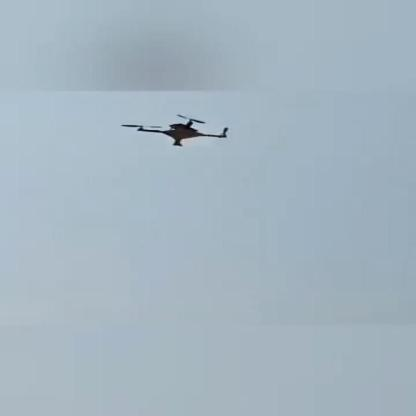drone: (119, 109, 236, 152)
